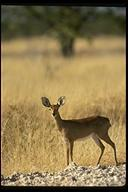antelope: (39, 94, 119, 167)
grass: (4, 53, 124, 93)
tree: (5, 8, 125, 49)
